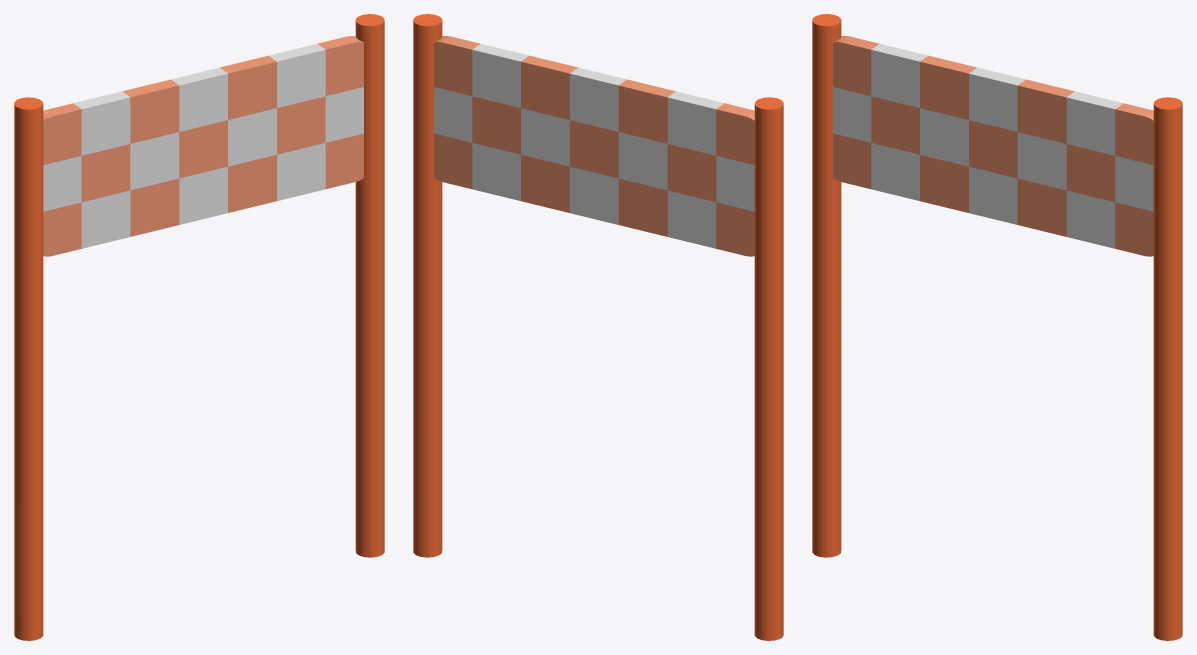
The model's file is Gate A Finish Line.fbx.
3 renders of one model, left to right at view 1: azimuth 30°, elevation 25°; view 2: azimuth 150°, elevation 25°; view 3: azimuth 330°, elevation 25°, orthographic.
Visible parts, largest first — view 1: Gate A Finish, Gate A Finish.001, Gate A Finish.002; view 2: Gate A Finish, Gate A Finish.001, Gate A Finish.002; view 3: Gate A Finish, Gate A Finish.002, Gate A Finish.001.
Part boxes in pixels (<box>): Gate A Finish: <box>43,36,363,256</box>; Gate A Finish.001: <box>14,97,43,640</box>; Gate A Finish.002: <box>355,14,384,557</box>; Gate A Finish: <box>434,36,754,256</box>; Gate A Finish.001: <box>754,97,783,640</box>; Gate A Finish.002: <box>413,14,442,557</box>; Gate A Finish: <box>833,36,1153,256</box>; Gate A Finish.002: <box>1153,97,1182,640</box>; Gate A Finish.001: <box>812,14,841,557</box>.
Bounding box in the file's own units: 308 × 427 × 21.39.
